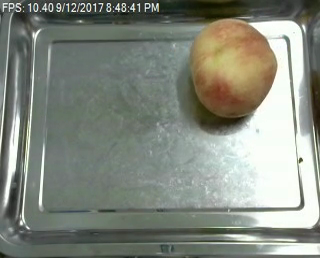Peach: (188, 16, 277, 117)
